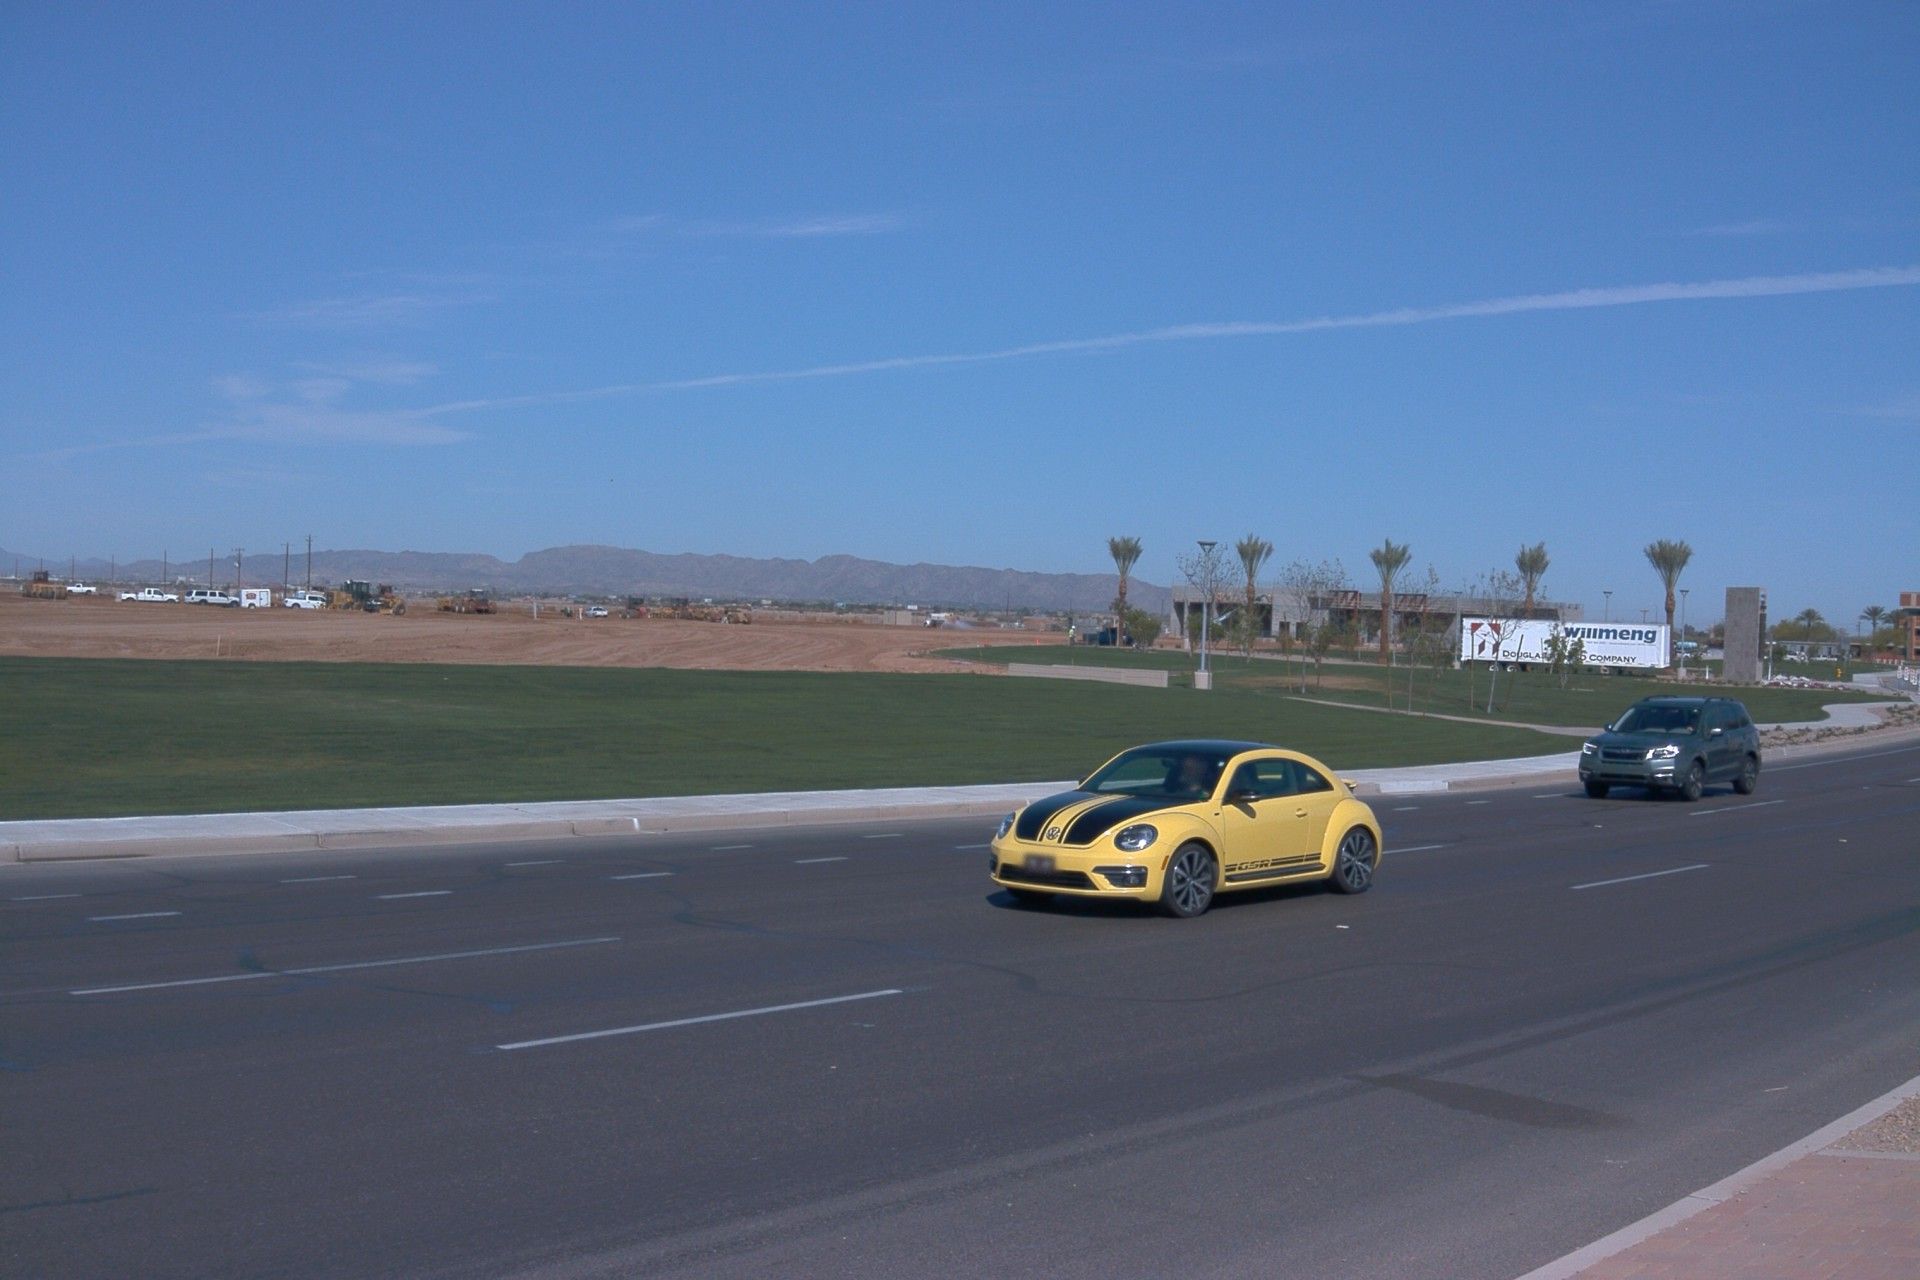TYPE_PEDESTRIAN: (1068, 626, 1077, 647), (576, 604, 584, 619), (564, 605, 572, 618)
TYPE_VEHICLE: (986, 737, 1385, 917), (1577, 695, 1762, 805), (1461, 614, 1676, 677), (311, 573, 404, 617), (1212, 588, 1274, 624), (435, 586, 496, 613), (1082, 625, 1134, 647), (118, 586, 181, 604), (185, 588, 244, 607), (236, 587, 278, 608), (918, 612, 961, 632), (283, 591, 333, 607), (66, 580, 99, 594), (377, 582, 397, 598), (587, 607, 611, 620), (311, 584, 328, 594), (21, 579, 25, 591)
